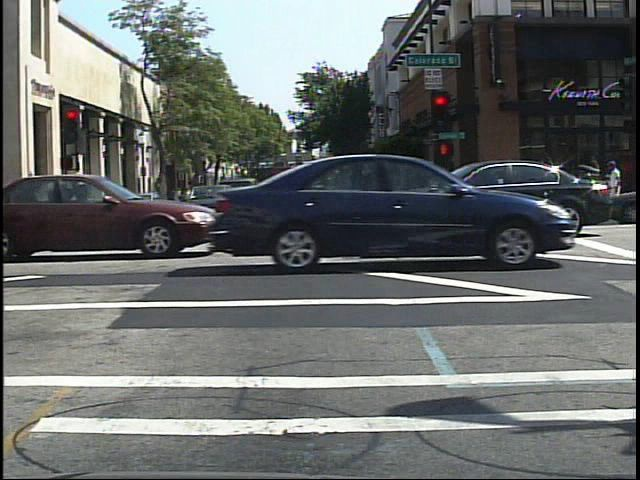person: (602, 156, 629, 221)
